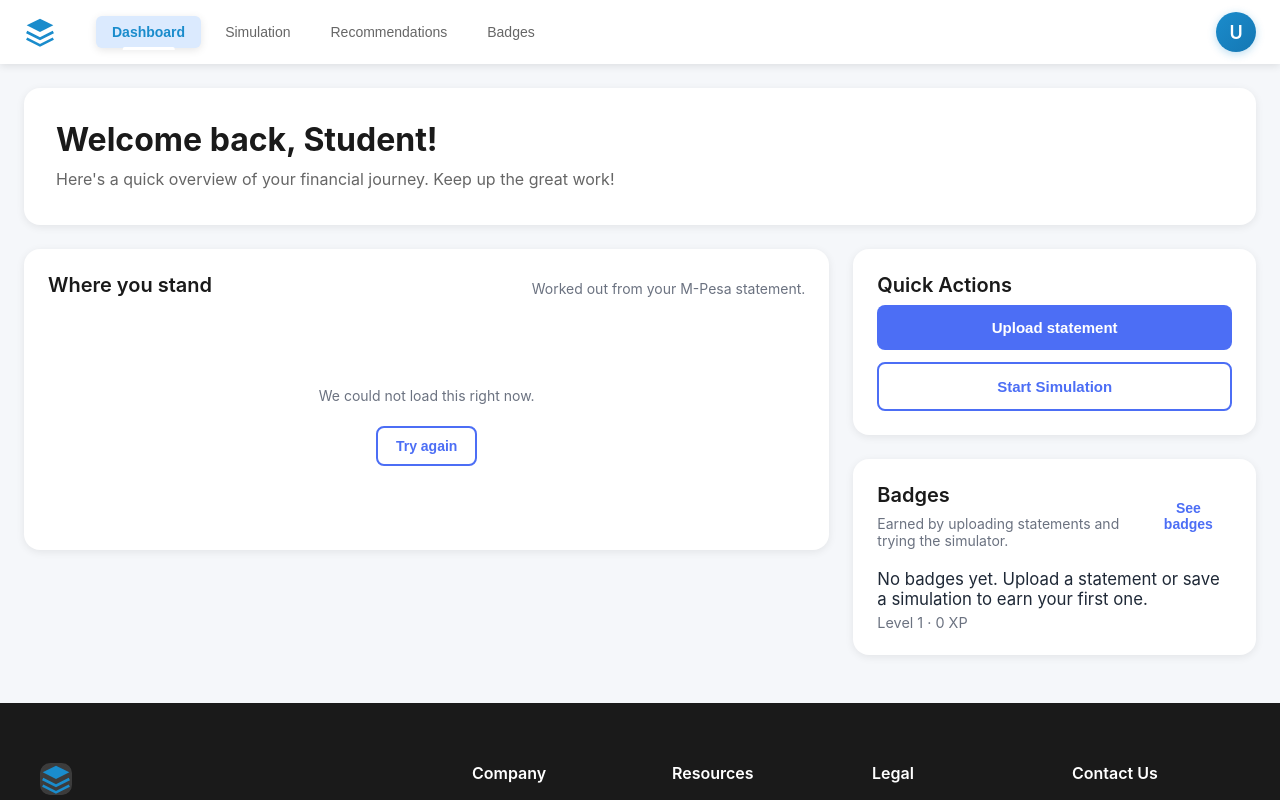
Test: when the statement service fails › says so, does not claim there is no statement, and can retry
Expected: the text "We could not load this right now." is shown, [319,385,535,406]
Click the button "Try again" at (427, 446), box [376,426,477,466]
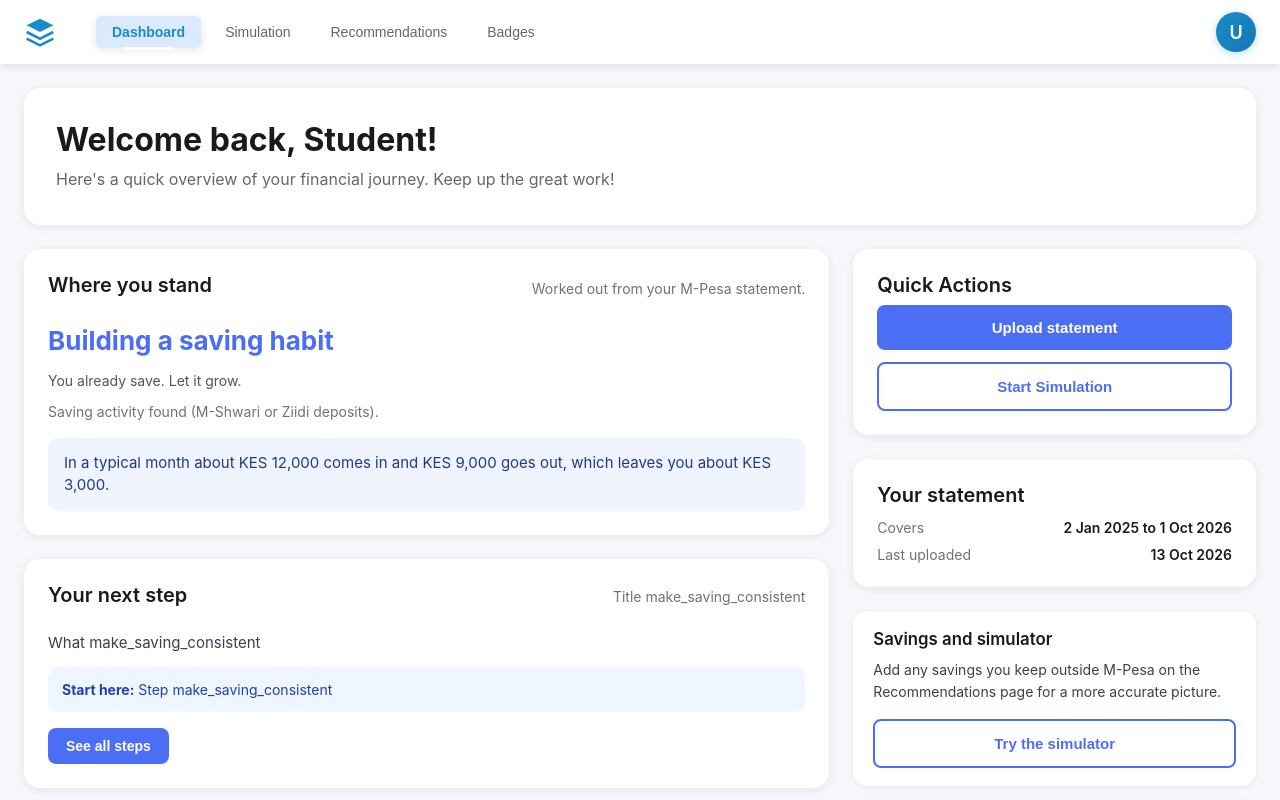
Now the text "Building a saving habit" is shown, box [48,325,334,356]
